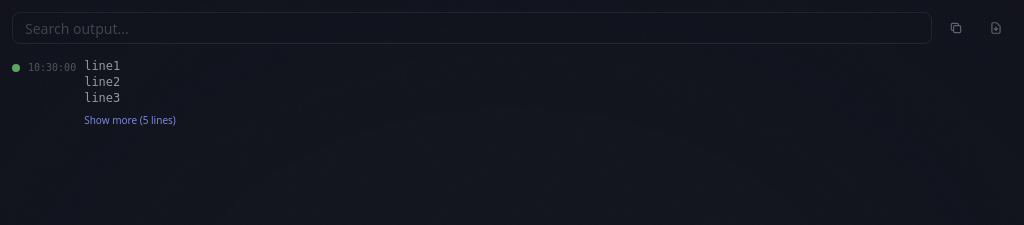
it: HistoryTab › clicking "Show more" expands collapsed entry
Click the button with test id "expand-toggle-42" at (130, 120), box [84,113,176,128]
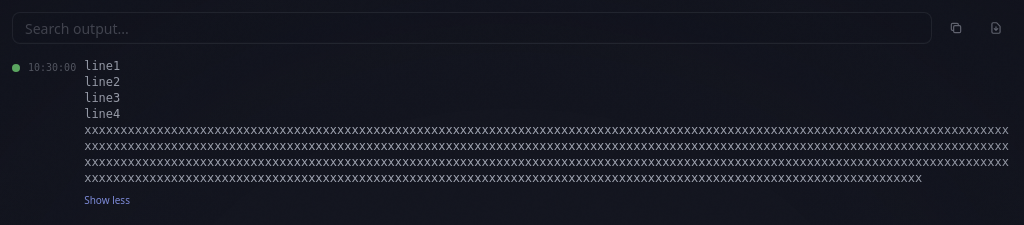
Now the button "Show less" is shown, box [84,193,130,208]
